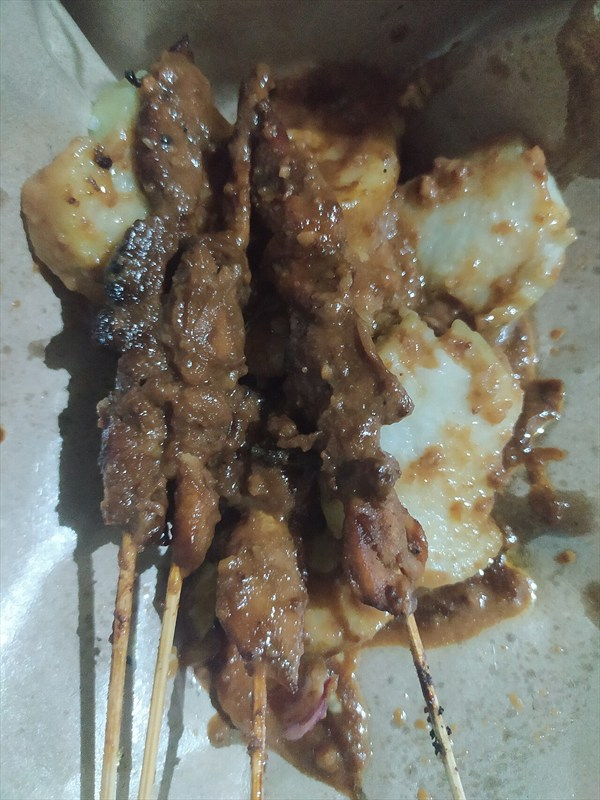Sate Ayam: (76, 99, 516, 701)
